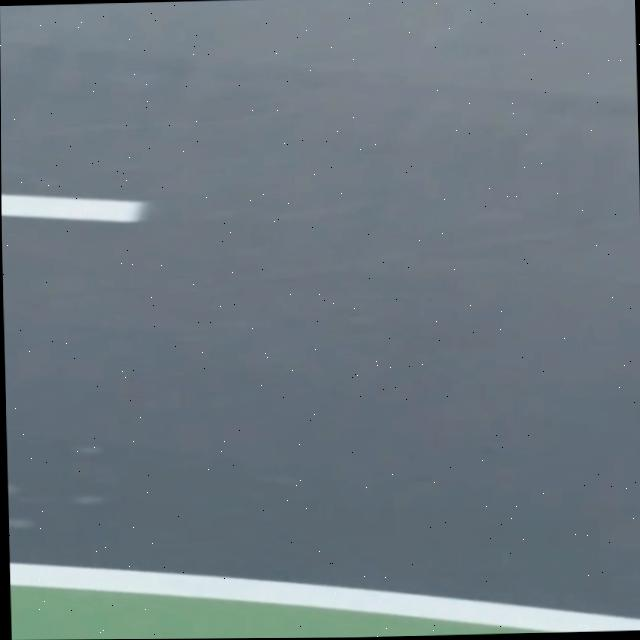center: (1, 193, 146, 221)
right: (8, 561, 640, 632)
